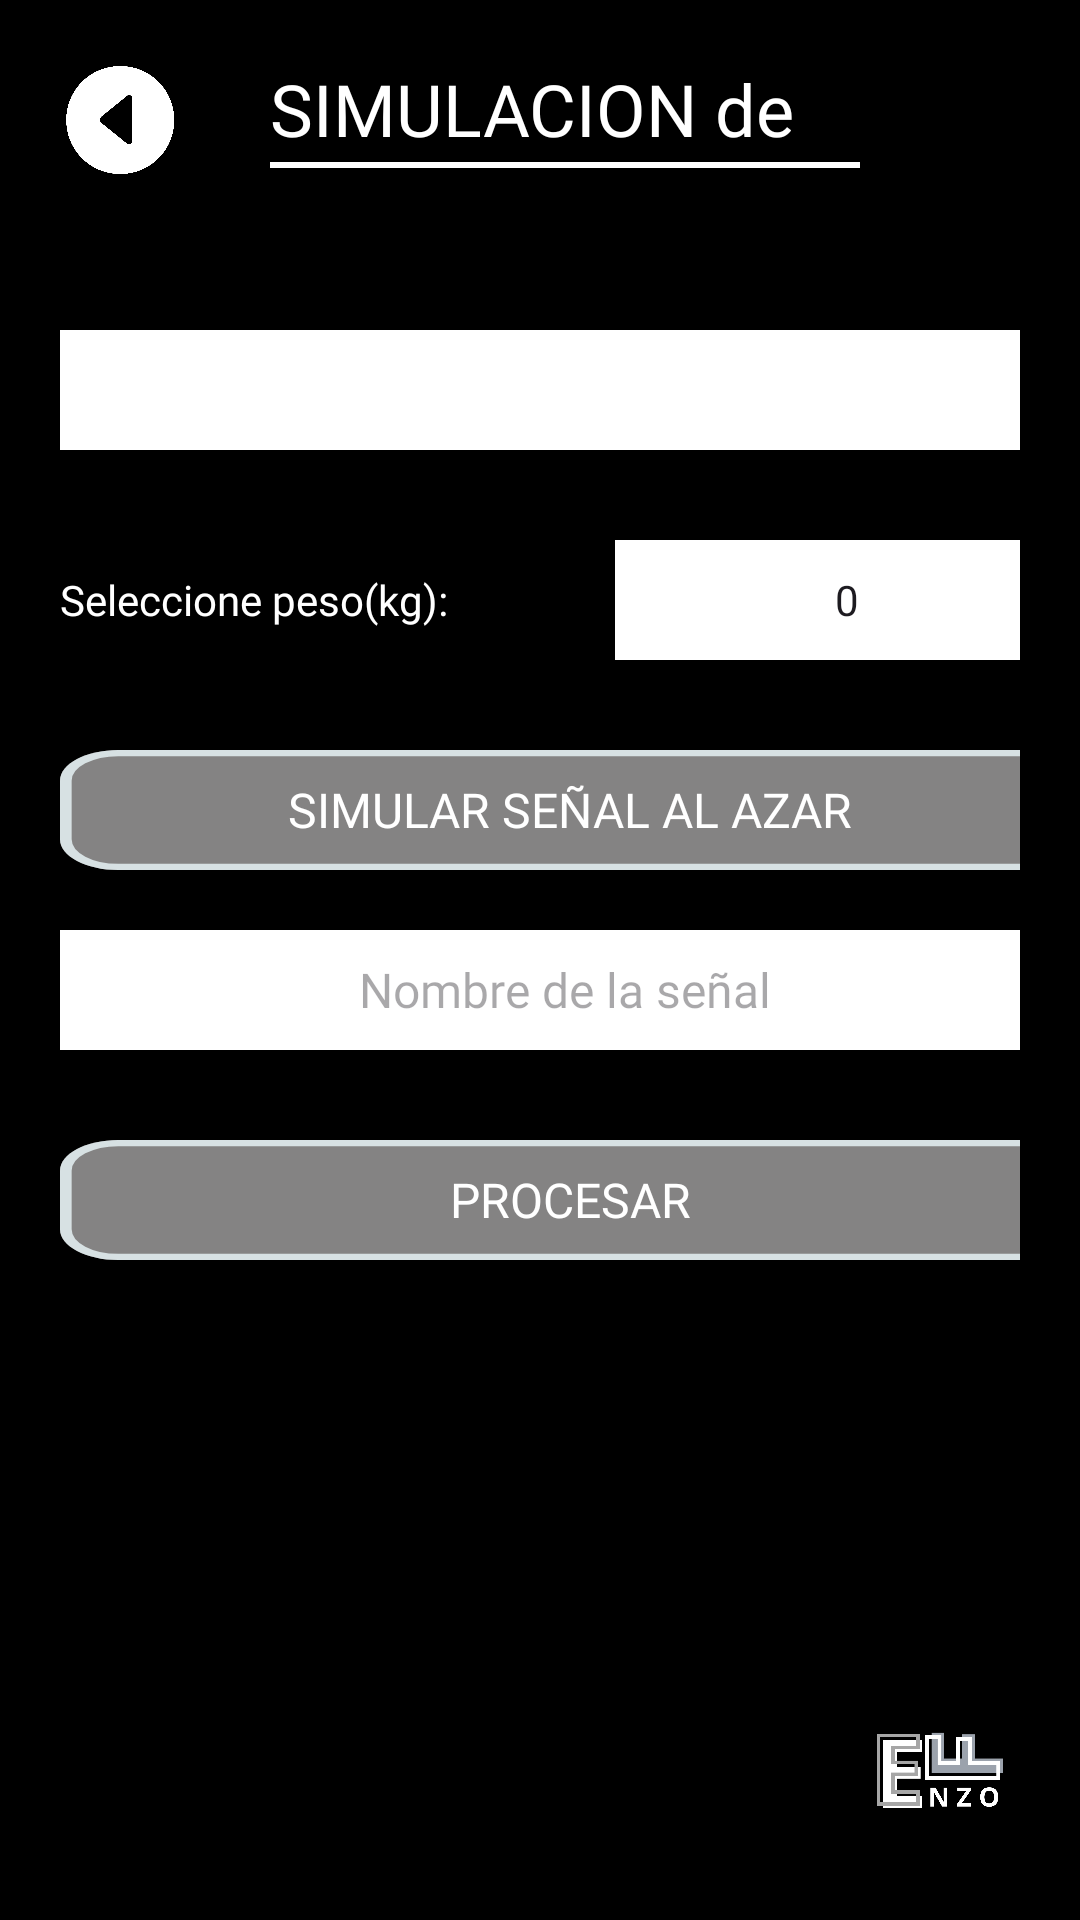

Icon bounding boxes for this 1080x1920 phone screenshot, format box=[x1, y1, x2, y2]:
Boton atras: box=[66, 66, 174, 174]
